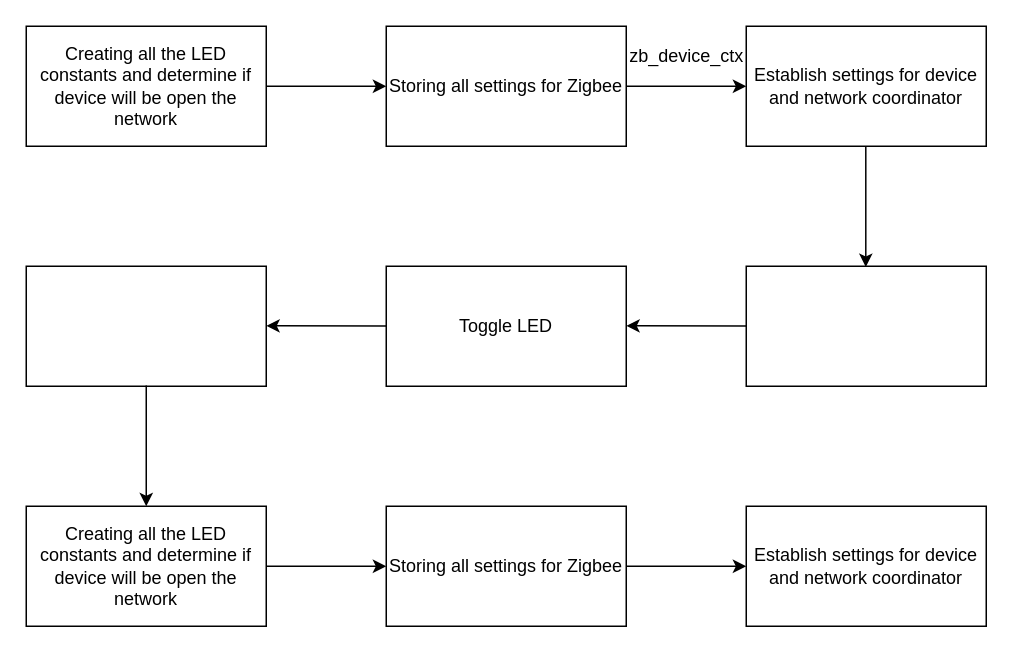
The diagram is 1013 pixels wide and 653 high, and some of its shapes have lost their labels. The shapes that lost their labels are listed below. From the top down, each one's centre as x and y in pixels, then its label:
At (145,325): "Handle notification events (self scheduling or a schedule callback)".
At (865,325): "Initialize all clusters (settings, attributes, etc)".
